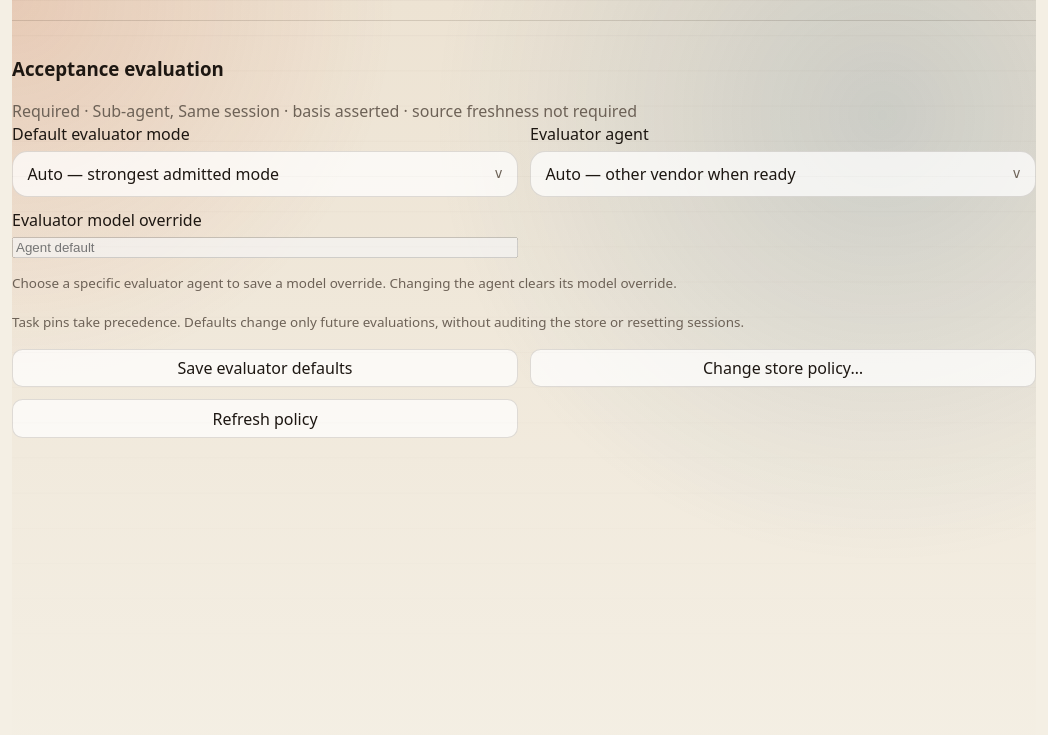
reports admitted sub-agent capability and saves it as an evaluator default
Expected: the text "Required · Sub-agent, Same session" is shown, [12,100,637,122]
Click the dropdown named "Default evaluator mode".
click(265, 174)  # box [12,151,518,197]
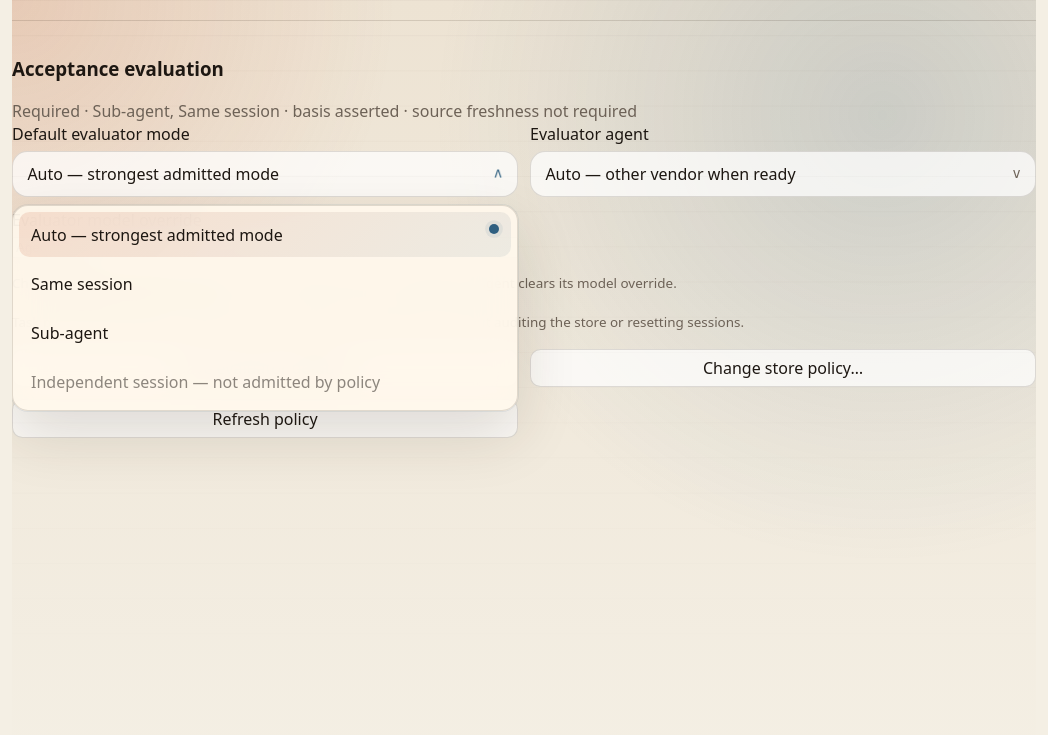
Result: the option "Sub-agent" is enabled
Click the option "Sub-agent".
click(70, 333)  # box [19,310,511,355]
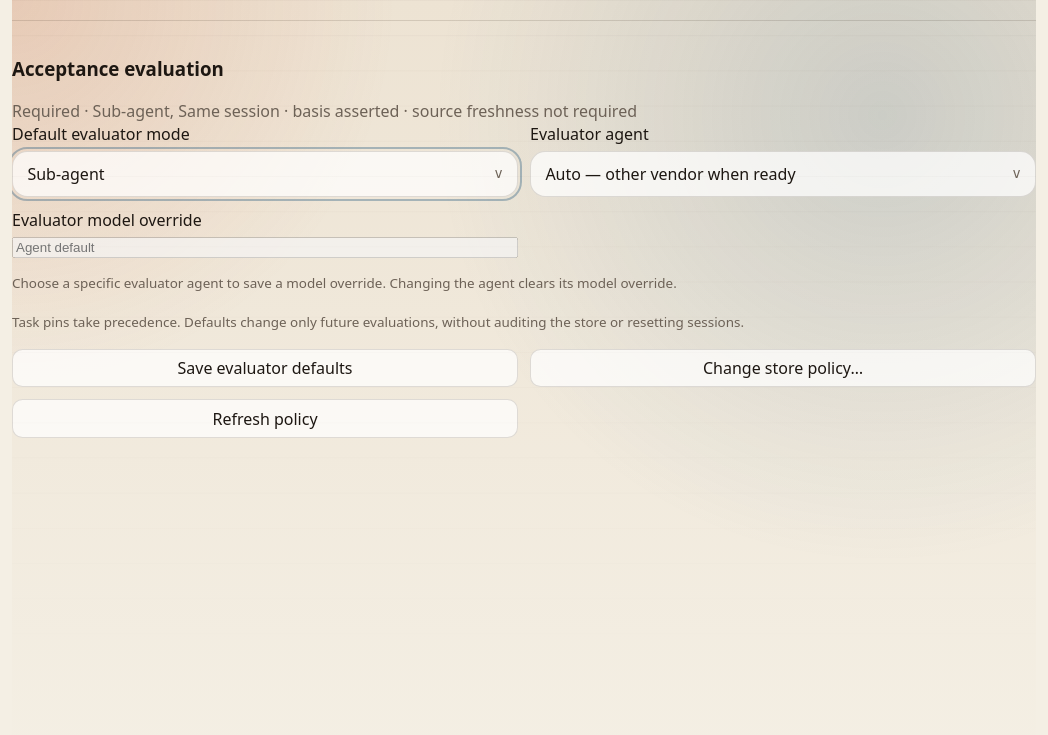
Click the button "Save evaluator defaults".
click(265, 368)  # box [12,349,518,387]
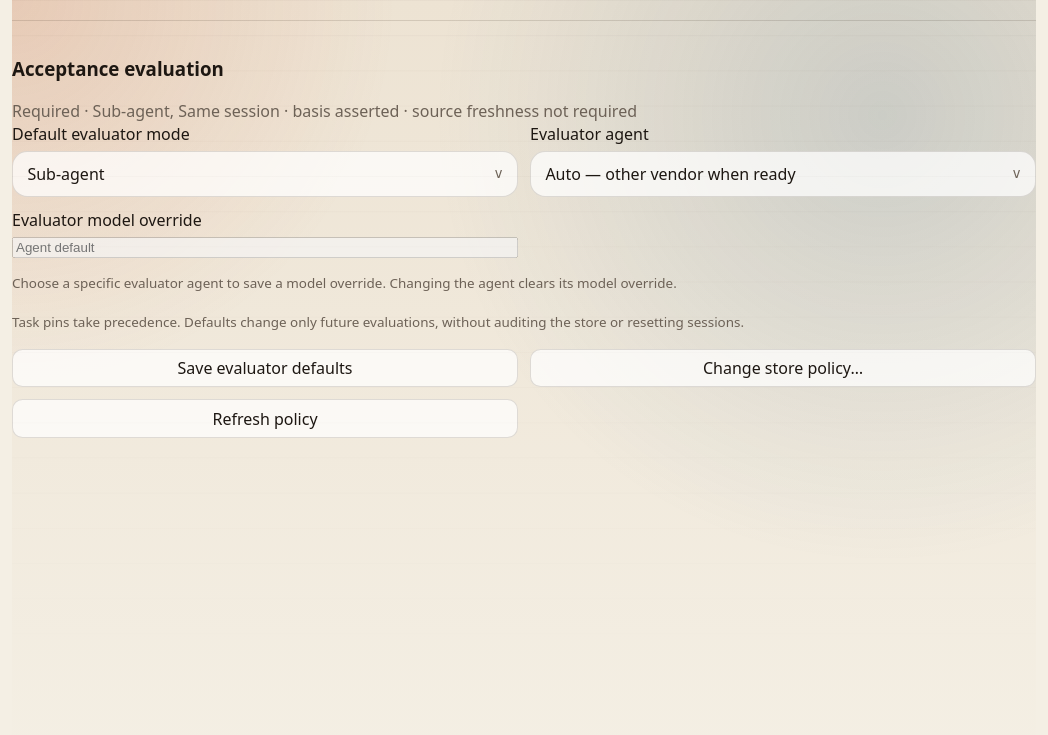
Click the button "Change store policy…".
click(783, 368)  # box [530,349,1036,387]
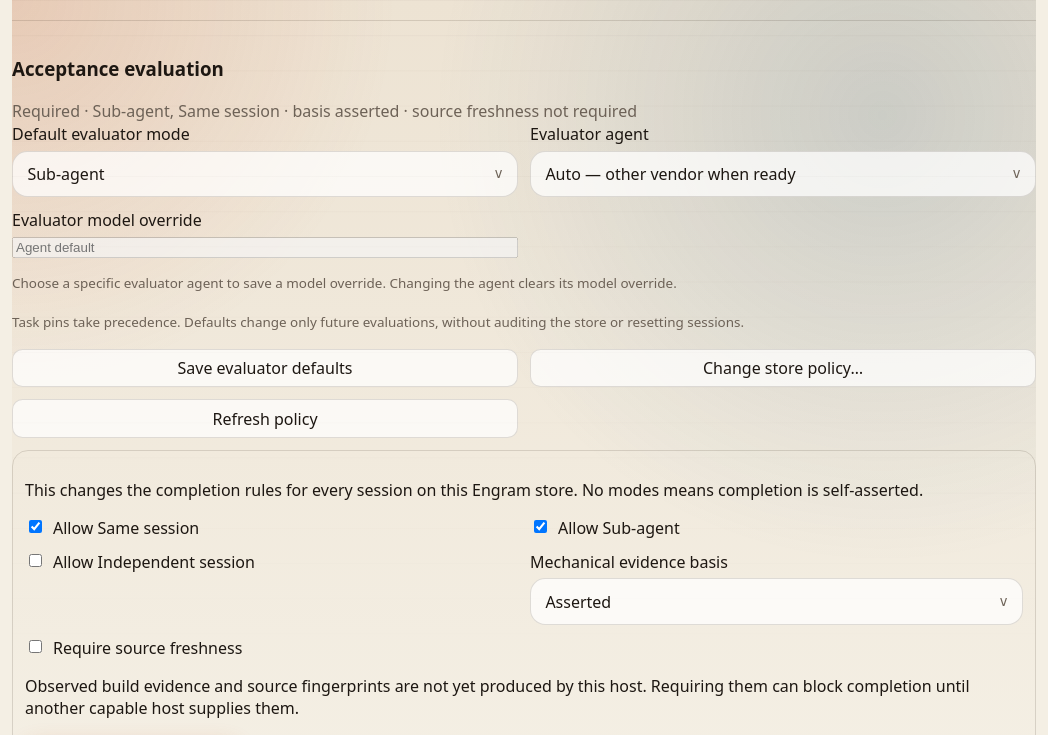
Result: the text "Observed build evidence and source fingerprints are not yet produced" is shown at [25,675,970,719]
